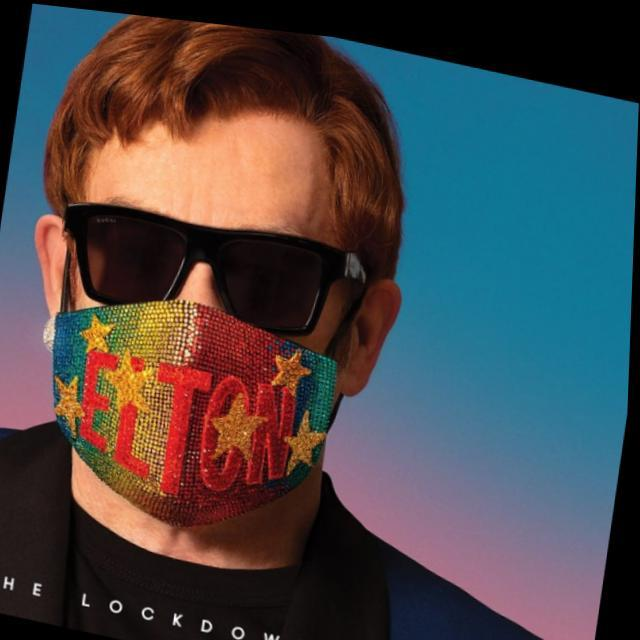Nonhelmet: (31, 13, 410, 529)
